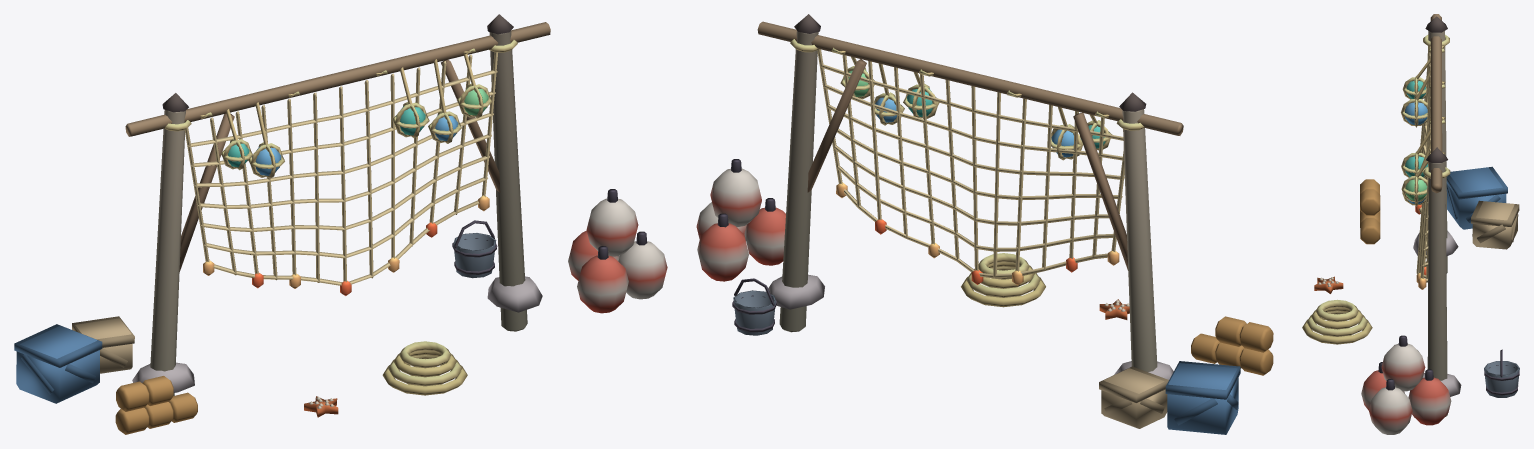
The model's file is rg-tidepool-netRack.glb.
The picture shows the model from 3 angles, left to right: view 1: azimuth 30°, elevation 25°; view 2: azimuth 150°, elevation 25°; view 3: azimuth 270°, elevation 25°; orthographic projection. The views are drawn at different scales.
Parts seen in each view (by area): view 1: rg-tidepool-netRack, rg-tidepool-netRack_cloth, rg-tidepool-netRack_glow; view 2: rg-tidepool-netRack, rg-tidepool-netRack_cloth, rg-tidepool-netRack_glow; view 3: rg-tidepool-netRack, rg-tidepool-netRack_cloth, rg-tidepool-netRack_glow.
Boxes of the visible parts, bbox=[...] form: rg-tidepool-netRack: bbox=[14, 14, 667, 434]; rg-tidepool-netRack_cloth: bbox=[184, 52, 498, 295]; rg-tidepool-netRack_glow: bbox=[228, 88, 488, 175]; rg-tidepool-netRack: bbox=[696, 14, 1273, 434]; rg-tidepool-netRack_cloth: bbox=[817, 49, 1124, 285]; rg-tidepool-netRack_glow: bbox=[844, 69, 1105, 157]; rg-tidepool-netRack: bbox=[1302, 14, 1519, 434]; rg-tidepool-netRack_cloth: bbox=[1415, 46, 1430, 289]; rg-tidepool-netRack_glow: bbox=[1405, 80, 1427, 203].
Bounding box in the file's own units: 4.35 × 2.25 × 1.69.
